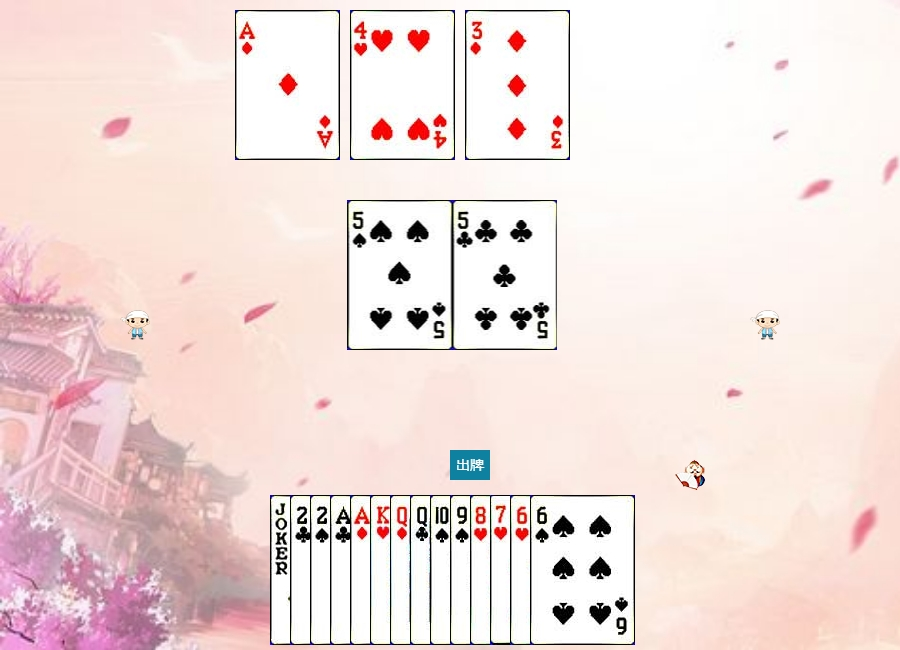10~4: (430, 495, 535, 645)
12~1: (390, 495, 495, 645)
12~2: (410, 495, 515, 645)
13~3: (370, 495, 475, 645)
14~1: (235, 10, 340, 160), (350, 495, 455, 645)
14~2: (330, 495, 435, 645)
15~2: (290, 495, 395, 645)
15~4: (310, 495, 415, 645)
17~3: (270, 495, 375, 645)
3~1: (465, 10, 570, 160)
4~3: (350, 10, 455, 160)
5~2: (453, 200, 558, 350)
5~4: (348, 200, 453, 350)
6~3: (510, 495, 615, 645)
6~4: (530, 495, 635, 645)
7~3: (490, 495, 595, 645)
8~3: (470, 495, 575, 645)
9~4: (450, 495, 555, 645)
